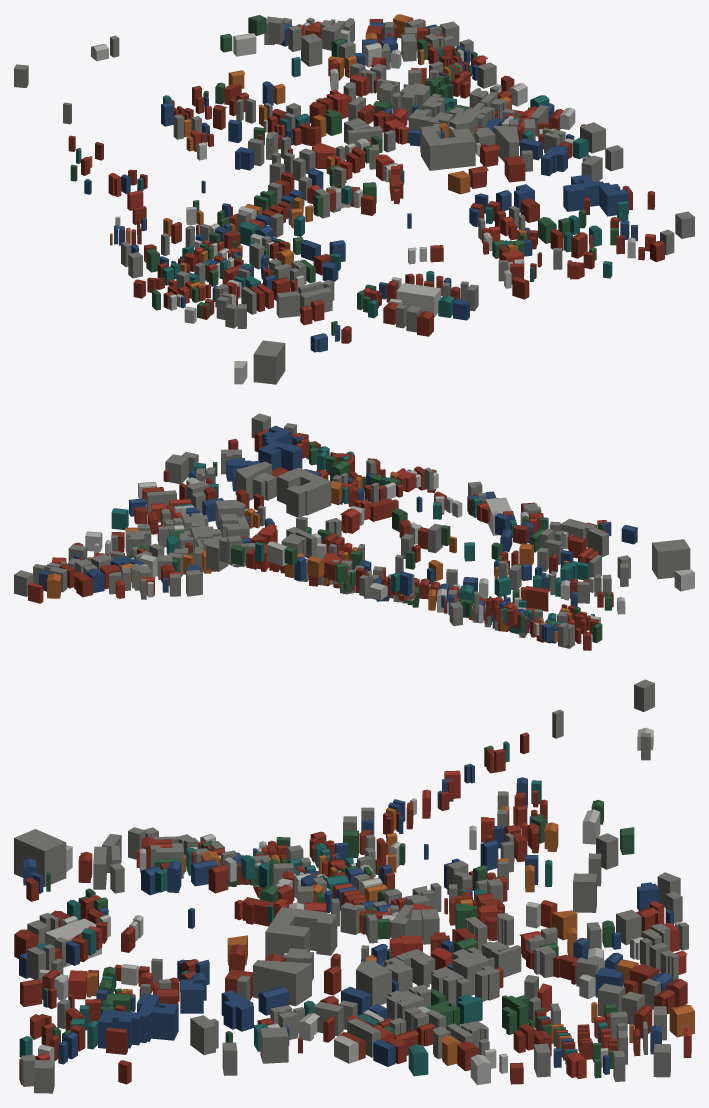
The model's file is near-16-54720-29740.e53042ce.glb.
The picture shows the model from 3 angles, top to bottom: view 1: azimuth 30°, elevation 25°; view 2: azimuth 150°, elevation 25°; view 3: azimuth 270°, elevation 25°; orthographic projection. The views are drawn at different scales.
Size of the model in its own units: 601 by 191 by 600.
